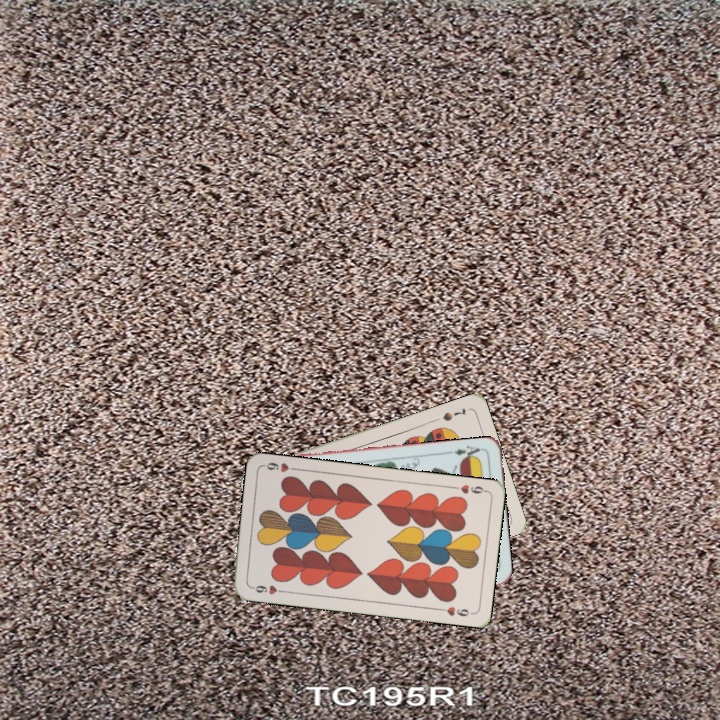EA: (445, 442, 486, 462)
H9: (448, 480, 489, 496), (247, 581, 288, 597)
S7: (439, 404, 469, 424)
